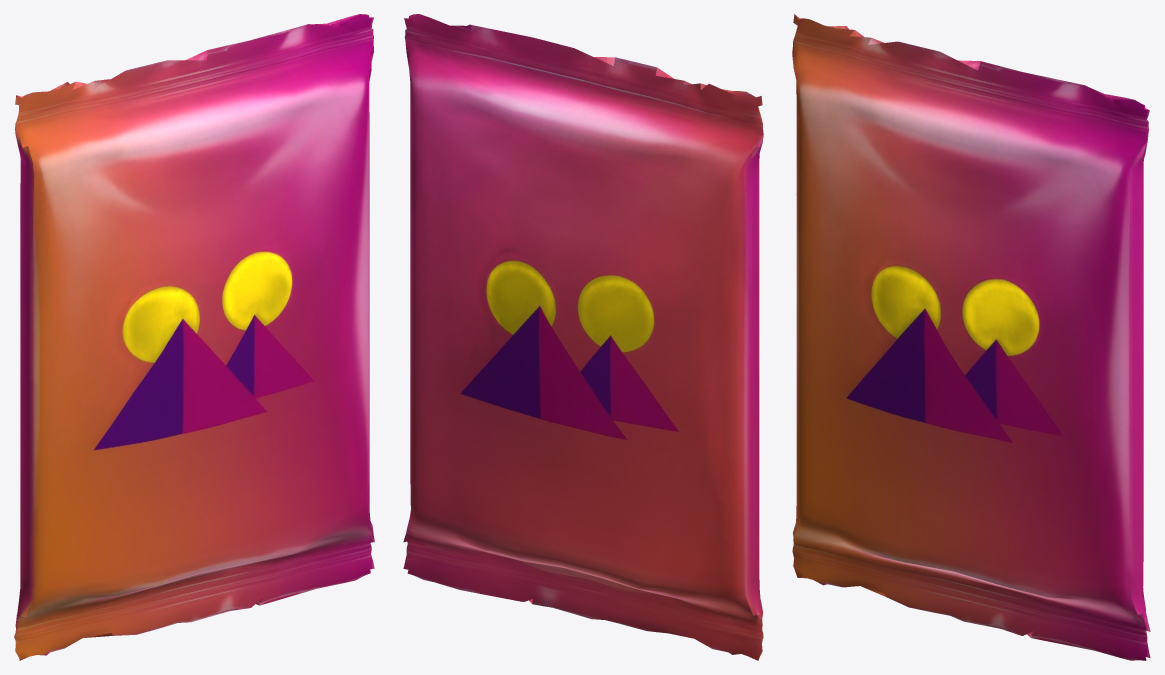
Rendered from foilpack.glb.
3 views of the same model, side by side, from view 1: azimuth 30°, elevation 25°; view 2: azimuth 150°, elevation 25°; view 3: azimuth 330°, elevation 25° (orthographic).
Visible parts, largest first — view 1: Mesh0; view 2: Mesh0; view 3: Mesh0.
Part boxes in pixels (x1,y1,x2,y2): Mesh0: (14, 14, 374, 660); Mesh0: (403, 14, 763, 660); Mesh0: (792, 14, 1150, 660).
Size of the model in its own units: 1.26 by 1.9 by 0.2277.
Materials: 1 (1 with a texture image).
